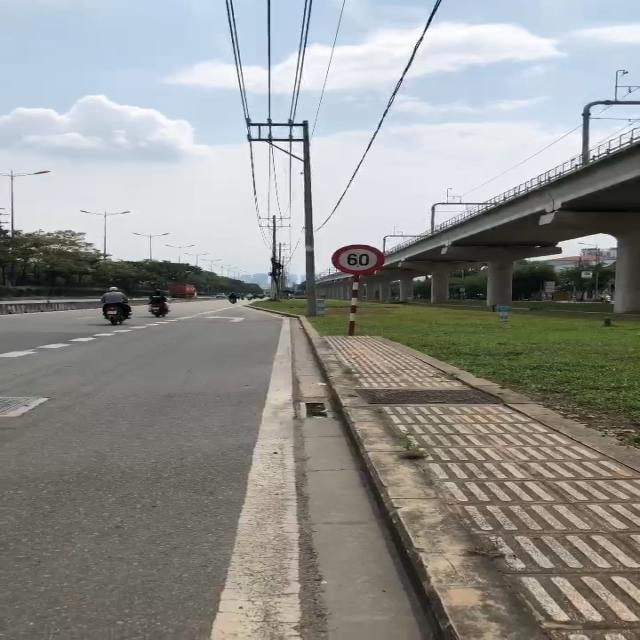Bien bao toc do toi da cho phep: (328, 241, 393, 277)
